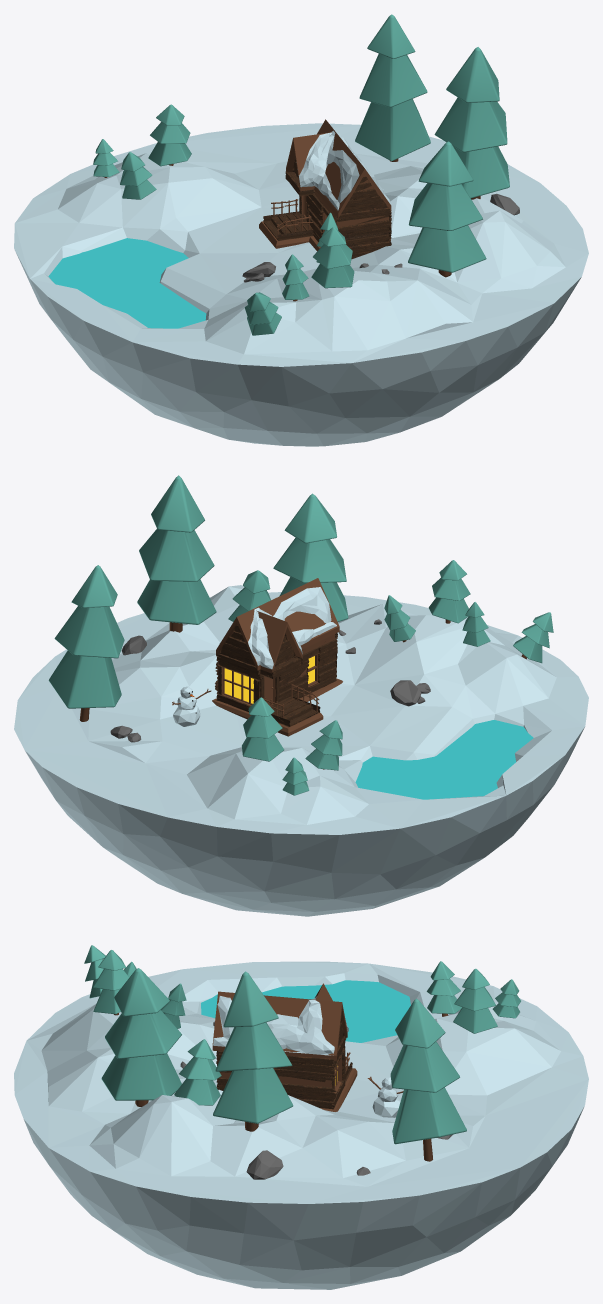
File: interior2.glb
The picture shows the model from 3 angles, top to bottom: view 1: azimuth 30°, elevation 25°; view 2: azimuth 150°, elevation 25°; view 3: azimuth 270°, elevation 25°; orthographic projection. The views are drawn at different scales.
Visible parts, largest first — view 1: Ground, Lake, Tree4.004, Tree3, Tree2, HouseBlocking, HouseBlocking.001, Tree4.002, Tree4, Tree1, Tree1.001, Tree2.001 (+1 smaller); view 2: Ground, Lake, Tree3, Tree4.004, Tree2, HouseBlocking, HouseBlocking.001, Tree4, Tree4.002, Tree1, Tree1.001, Tree4.001 (+6 smaller); view 3: Ground, Tree3, Tree2, Tree4.004, Lake, HouseBlocking, HouseBlocking.001, Tree4.001, Tree4, Tree4.002, Tree1, Icosphere.016 (+5 smaller).
Boxes of the visible parts, x1,y1,x2,y2 form: Ground: (14, 123, 588, 446); Lake: (48, 238, 206, 328); Tree4.004: (355, 14, 430, 161); Tree3: (434, 47, 509, 198); Tree2: (408, 141, 486, 272); HouseBlocking: (286, 119, 391, 247); HouseBlocking.001: (286, 130, 390, 210); Tree4.002: (311, 227, 354, 288); Tree4: (148, 104, 191, 166); Tree1: (120, 152, 156, 199); Tree1.001: (244, 292, 281, 335); Tree2.001: (282, 254, 309, 299); Ground: (14, 585, 588, 916); Lake: (355, 720, 533, 799); Tree3: (137, 475, 216, 624); Tree4.004: (48, 565, 124, 721); Tree2: (273, 493, 348, 621); HouseBlocking: (216, 578, 339, 705); HouseBlocking.001: (219, 587, 336, 669); Tree4: (241, 697, 284, 761); Tree4.002: (428, 560, 470, 623); Tree1: (305, 720, 342, 770); Tree1.001: (513, 612, 553, 663); Tree4.001: (228, 570, 270, 621); Ground: (14, 961, 588, 1289); Tree3: (213, 971, 293, 1123); Tree2: (101, 968, 181, 1100); Tree4.004: (390, 998, 466, 1161); Lake: (201, 980, 410, 1042); HouseBlocking: (212, 983, 347, 1092); HouseBlocking.001: (213, 996, 348, 1055); Tree4.001: (174, 1039, 221, 1105); Tree4: (453, 968, 497, 1033); Tree4.002: (93, 950, 129, 1014); Tree1: (426, 961, 462, 1013); Icosphere.016: (246, 1150, 283, 1179).
Bounding box in the file's own units: 3.53 × 2.44 × 3.54.
Materials: 9 (1 with a texture image).
